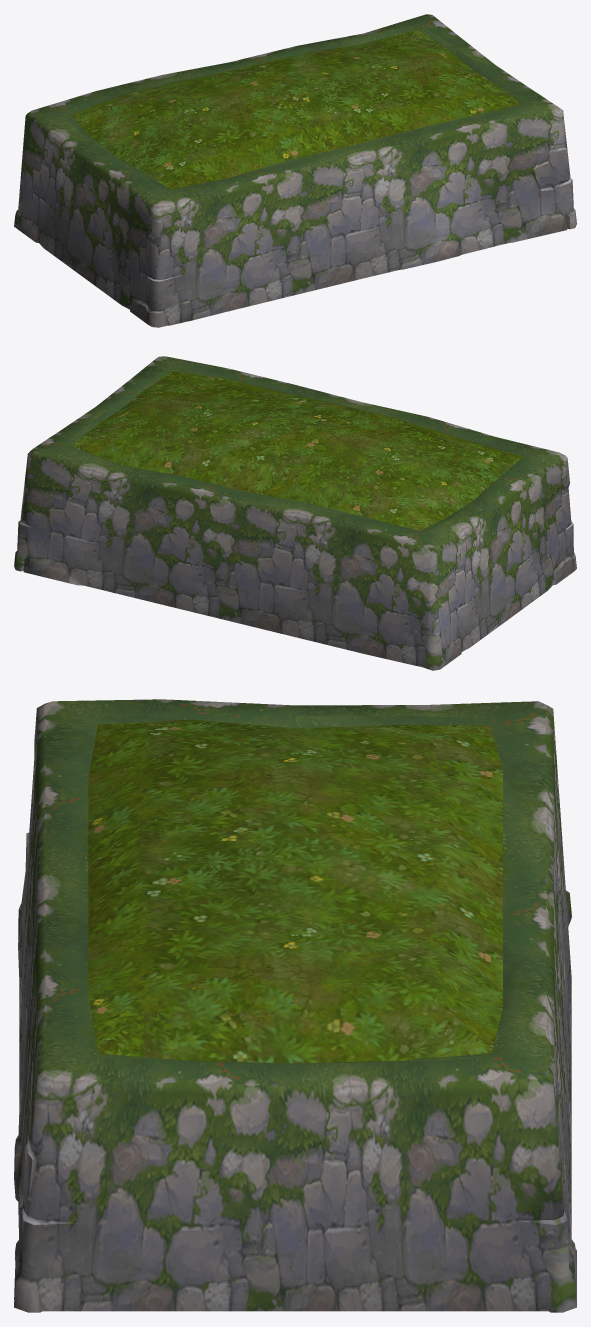
Rendered from hbxz_jz001_02.FBX.
3 views of the same model, one above another, from view 1: azimuth 30°, elevation 25°; view 2: azimuth 150°, elevation 25°; view 3: azimuth 270°, elevation 25° (orthographic). The views are drawn at different scales.
Parts seen in each view (by area): view 1: hbxz_jz001_02; view 2: hbxz_jz001_02; view 3: hbxz_jz001_02.
Part boxes in pixels (box(x1,y1,x2,y2)): hbxz_jz001_02: box(14, 14, 576, 327); hbxz_jz001_02: box(14, 356, 576, 670); hbxz_jz001_02: box(14, 699, 576, 1312).
Bounding box in the file's own units: 843 × 272 × 502.
2 materials, 2 textured.
